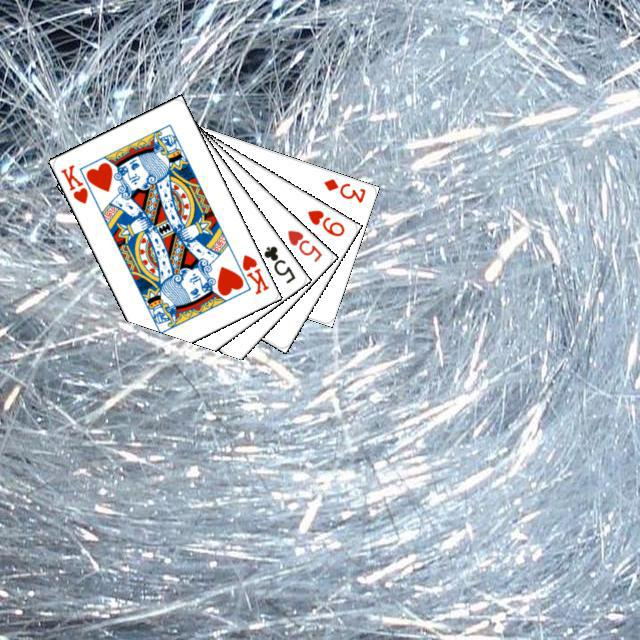3d: (319, 174, 367, 205)
5c: (258, 241, 297, 285)
5h: (282, 225, 324, 264)
9h: (302, 205, 346, 238)
Kh: (228, 250, 271, 296), (55, 159, 90, 205)
